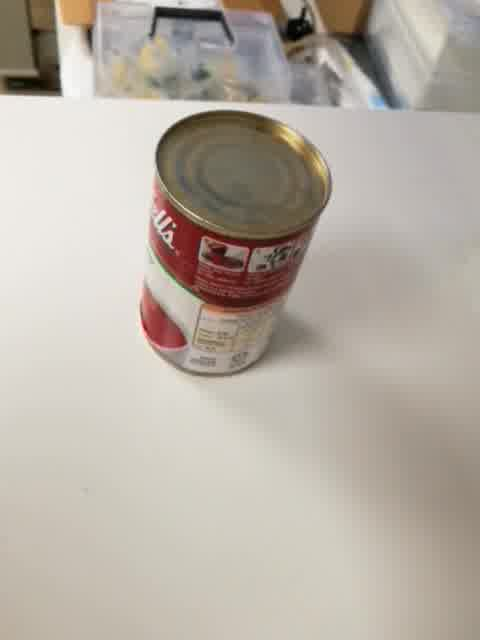tomatosoup: (138, 108, 335, 379)
